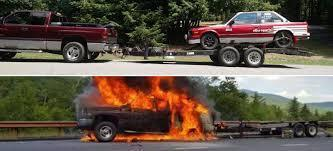fire: (90, 78, 229, 142)
